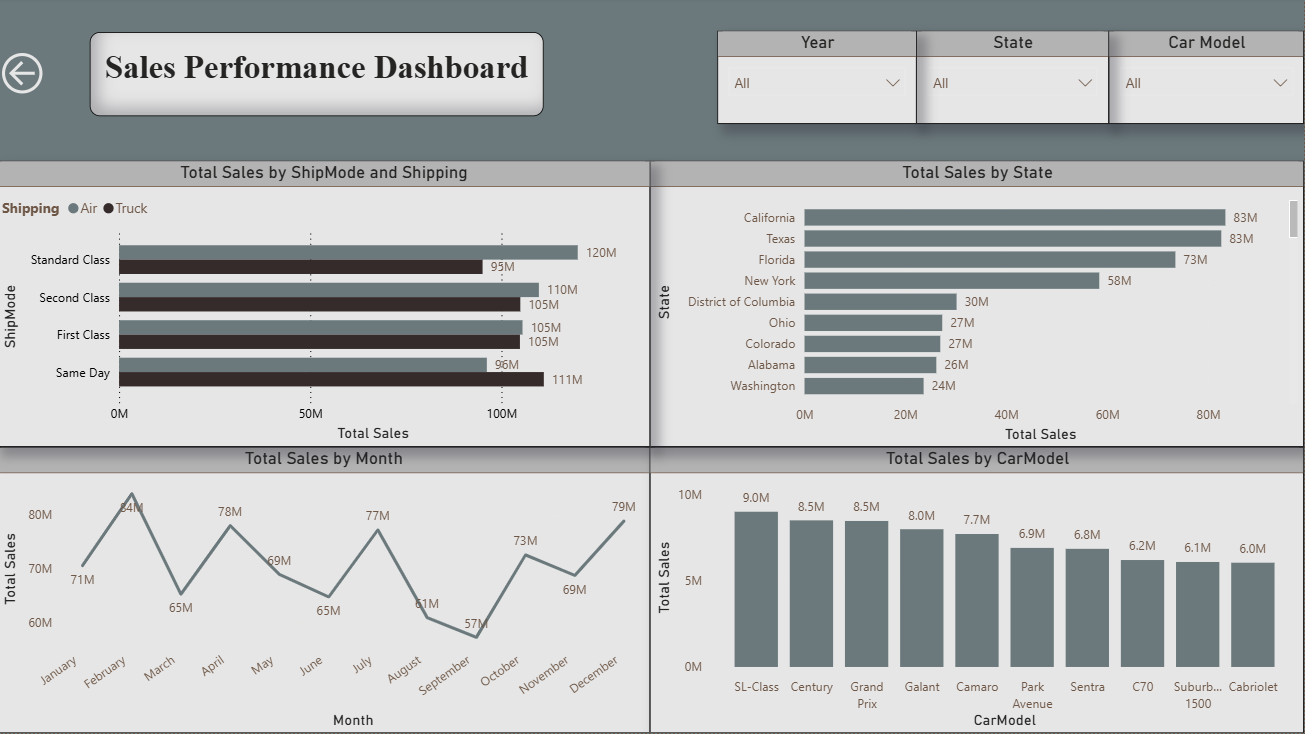

Layout of this report page (visuals, bound fields, positions):
{"tool":"powerbi","page":{"name":"Sales Performance Dashboard","canvas":[1280,720],"ordinal":2},"visuals":[{"type":"lineChart","fields":{"Y":["Orders.Total Sales"],"Category":["Calendar_Table.OrderDate.Variation.Date Hierarchy.Month"]},"box":[0,440,640,280],"z":0},{"type":"slicer","title":"Car Model","fields":{"Values":["product.CarModel"]},"box":[1088.8,32.5,191.2,91.2],"z":1000},{"type":"clusteredColumnChart","fields":{"Category":["product.CarModel"],"Y":["Orders.Total Sales"]},"box":[640,440,640,280],"z":2000},{"type":"clusteredBarChart","fields":{"Category":["Customer.State"],"Y":["Orders.Total Sales"]},"box":[640,160,640,280],"z":3000},{"type":"clusteredBarChart","fields":{"Category":["Orders.ShipMode"],"Y":["Orders.Total Sales"],"Series":["Orders.Shipping"]},"box":[0,160,640,280],"z":4000},{"type":"slicer","title":"State","fields":{"Values":["Customer.State"]},"box":[900,32.5,188.8,91.2],"z":5000},{"type":"slicer","title":"Year","fields":{"Values":["Calendar_Table.OrderDate.Variation.Date Hierarchy.Year"]},"box":[705,32.5,195,91.2],"z":6000},{"type":"textbox","box":[92,34,444,82],"z":7000},{"type":"actionButton","box":[0,48.9,74.6,51.4],"z":8000}]}

Visuals, with their boxes in screenshot pixels (x1, y1, x2, y2), scaled from the page's 1280x720 canvas onto the 1305x734 screenshot:
lineChart - Orders.Total Sales x Calendar_Table.OrderDate.Variation.Date Hierarchy.Month: 0:449:652:733
"Car Model" slicer: 1110:33:1304:126
clusteredColumnChart - product.CarModel x Orders.Total Sales: 652:449:1304:733
clusteredBarChart - Customer.State x Orders.Total Sales: 652:163:1304:449
clusteredBarChart - Orders.ShipMode x Orders.Total Sales: 0:163:652:449
"State" slicer: 918:33:1110:126
"Year" slicer: 719:33:918:126
textbox: 94:35:546:118
actionButton: 0:50:76:102
